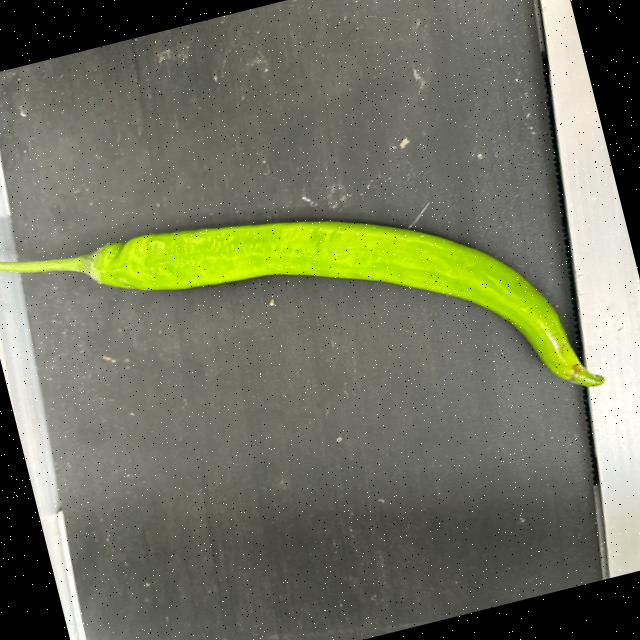chili: (87, 218, 606, 385)
